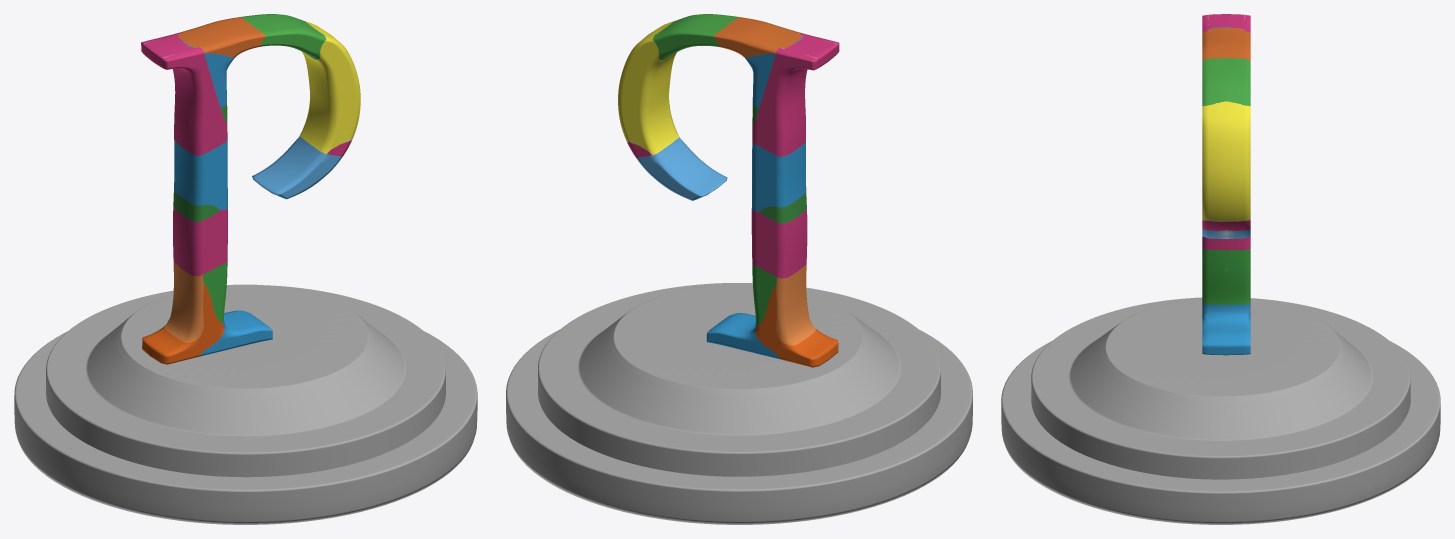
Rendered from BigP.fbx.
3 views of the same model, side by side, from view 1: azimuth 30°, elevation 25°; view 2: azimuth 150°, elevation 25°; view 3: azimuth 270°, elevation 25° (orthographic). The views are drawn at different scales.
Parts seen in each view (by area): view 1: Top, P, BigP; view 2: Top, P, BigP; view 3: Top, BigP, P.
Boxes of the visible parts, x1,y1,x2,y2 form: Top: (46, 284, 445, 477); P: (141, 14, 360, 364); BigP: (14, 331, 477, 524); Top: (538, 283, 940, 476); P: (618, 14, 839, 367); BigP: (506, 330, 972, 524); Top: (1031, 297, 1410, 479); BigP: (1001, 341, 1440, 524); P: (1202, 14, 1250, 355).
Size of the model in its own units: 27.25 by 26.02 by 27.25.
